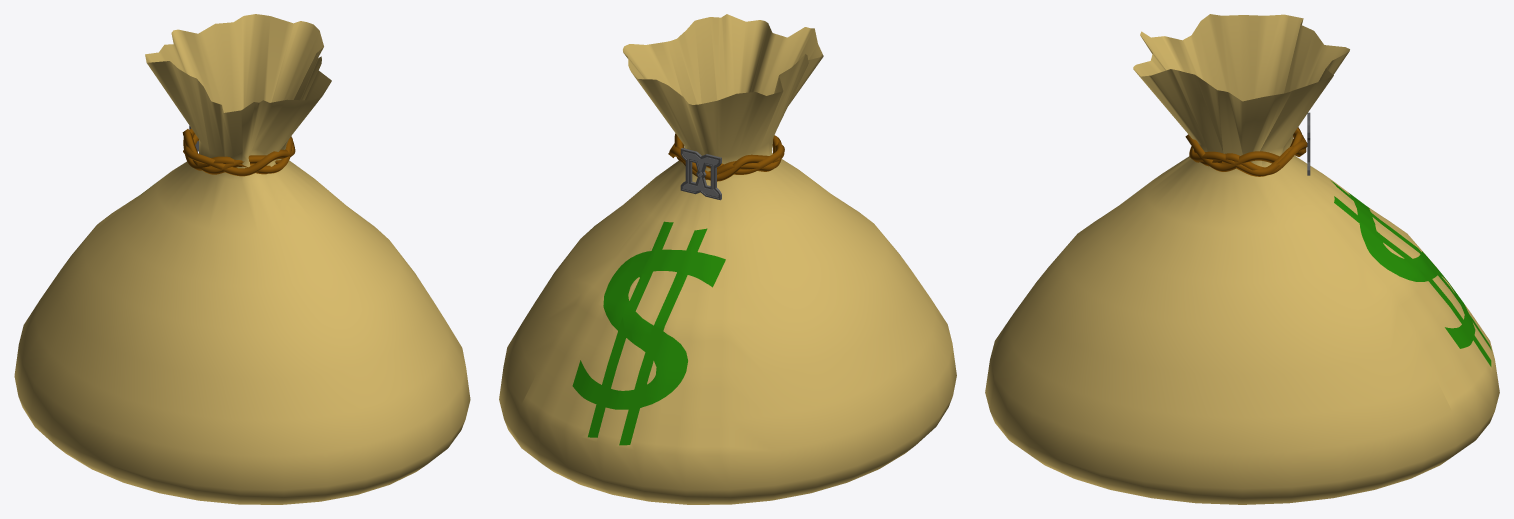
File: sacoDinero.fbx
3 views of the same model, side by side, from view 1: azimuth 30°, elevation 25°; view 2: azimuth 150°, elevation 25°; view 3: azimuth 270°, elevation 25° (orthographic). The views are drawn at different scales.
Visible parts, largest first — view 1: Esfera, Círculo NURBS; view 2: Esfera, Círculo NURBS, Plano; view 3: Esfera, Círculo NURBS.
Part boxes in pixels (x1,y1,x2,y2): Esfera: (14, 14, 470, 504); Círculo NURBS: (182, 128, 295, 176); Esfera: (499, 14, 956, 504); Círculo NURBS: (668, 133, 784, 181); Plano: (680, 148, 721, 200); Esfera: (985, 14, 1499, 504); Círculo NURBS: (1185, 127, 1307, 176).
Size of the model in its own units: 674 by 625 by 760.
